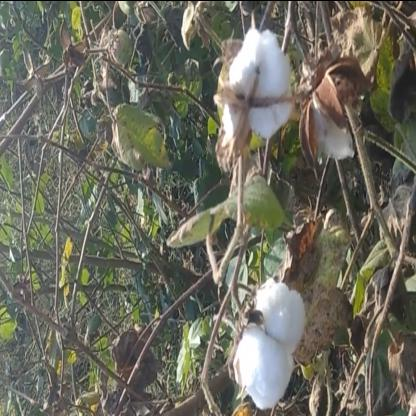cotton_ready: (217, 28, 305, 162), (230, 262, 310, 408)
